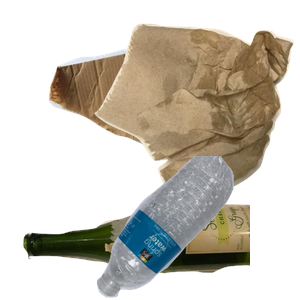cardboard: (46, 40, 226, 179)
glass: (21, 201, 261, 300)
plastic: (94, 156, 300, 300)
trash: (92, 21, 300, 201)
